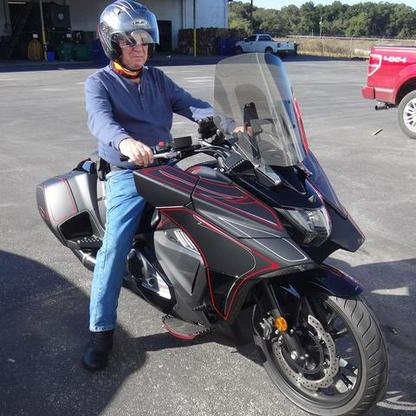target: (34, 2, 390, 414)
